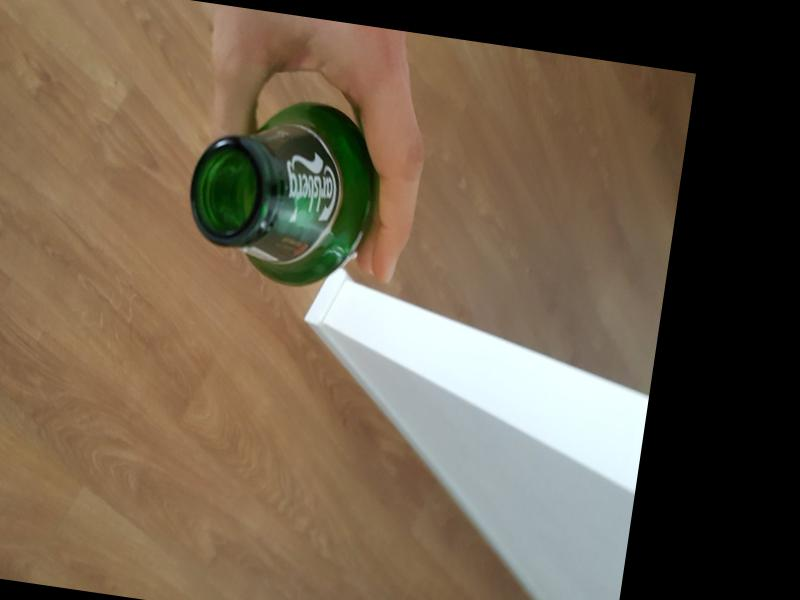Beer: (178, 83, 388, 296)
